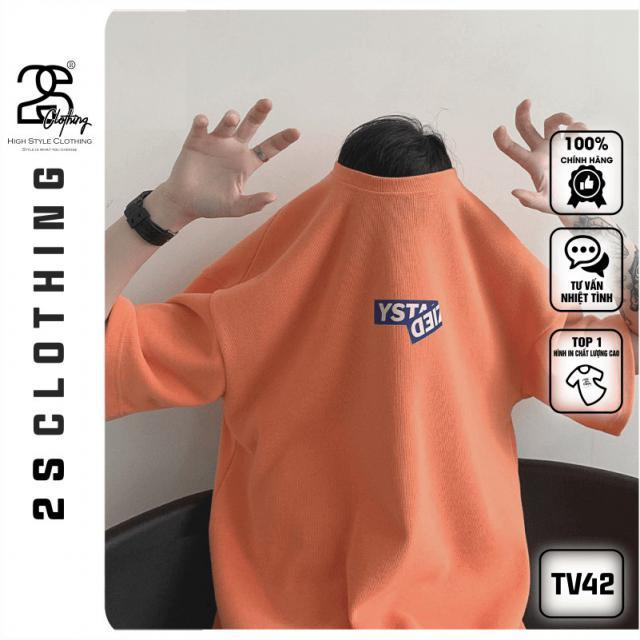Shirt: (105, 146, 638, 630)
